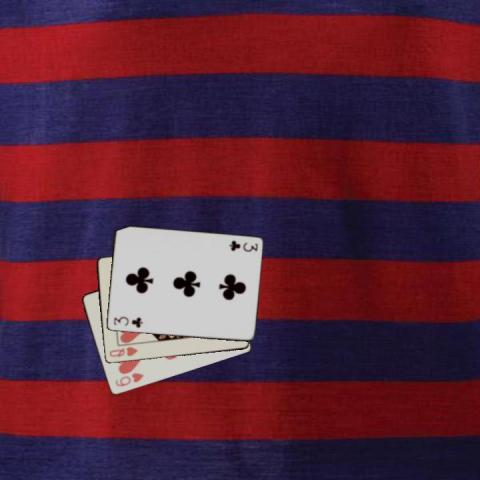3c: (111, 314, 144, 330), (226, 237, 259, 253)
6h: (112, 370, 145, 388)
Qh: (106, 344, 139, 359)
